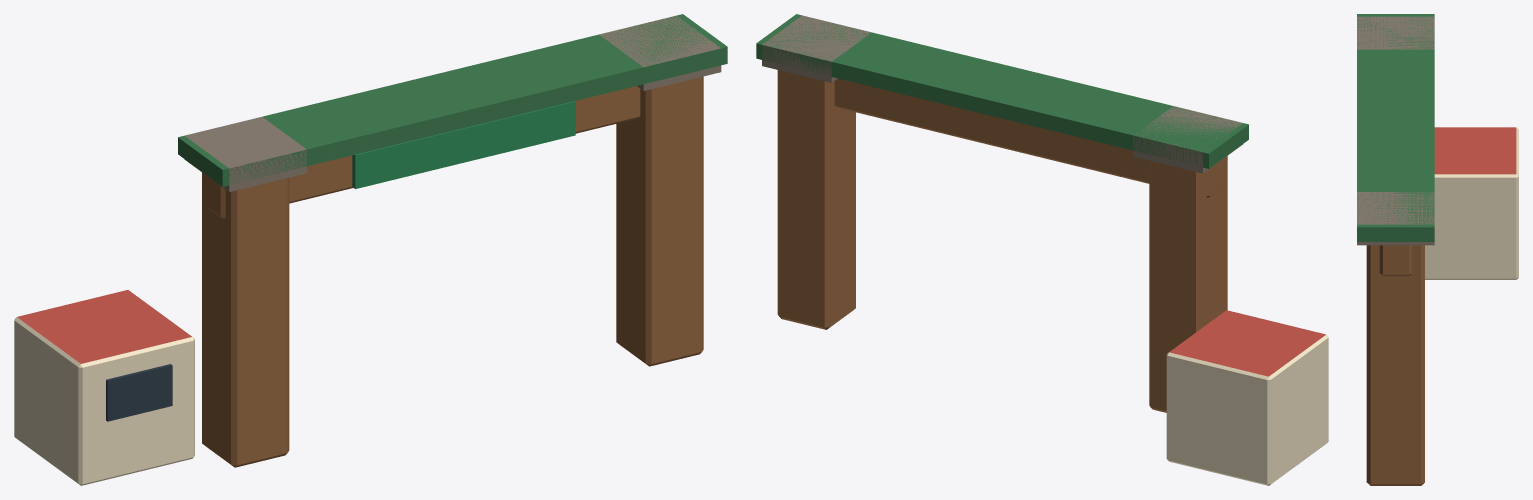
Rendered from gate.fbx.
3 renders of one model, left to right at view 1: azimuth 30°, elevation 25°; view 2: azimuth 150°, elevation 25°; view 3: azimuth 270°, elevation 25°, orthographic. The views are drawn at different scales.
Parts seen in each view (by area): view 1: gate; view 2: gate; view 3: gate.
Boxes of the visible parts, x1=… form: gate: x1=14, y1=14, x2=727, y2=485; gate: x1=756, y1=14, x2=1328, y2=485; gate: x1=1357, y1=14, x2=1518, y2=485.
Bounding box in the file's own units: 9.6 × 4.55 × 2.5.
